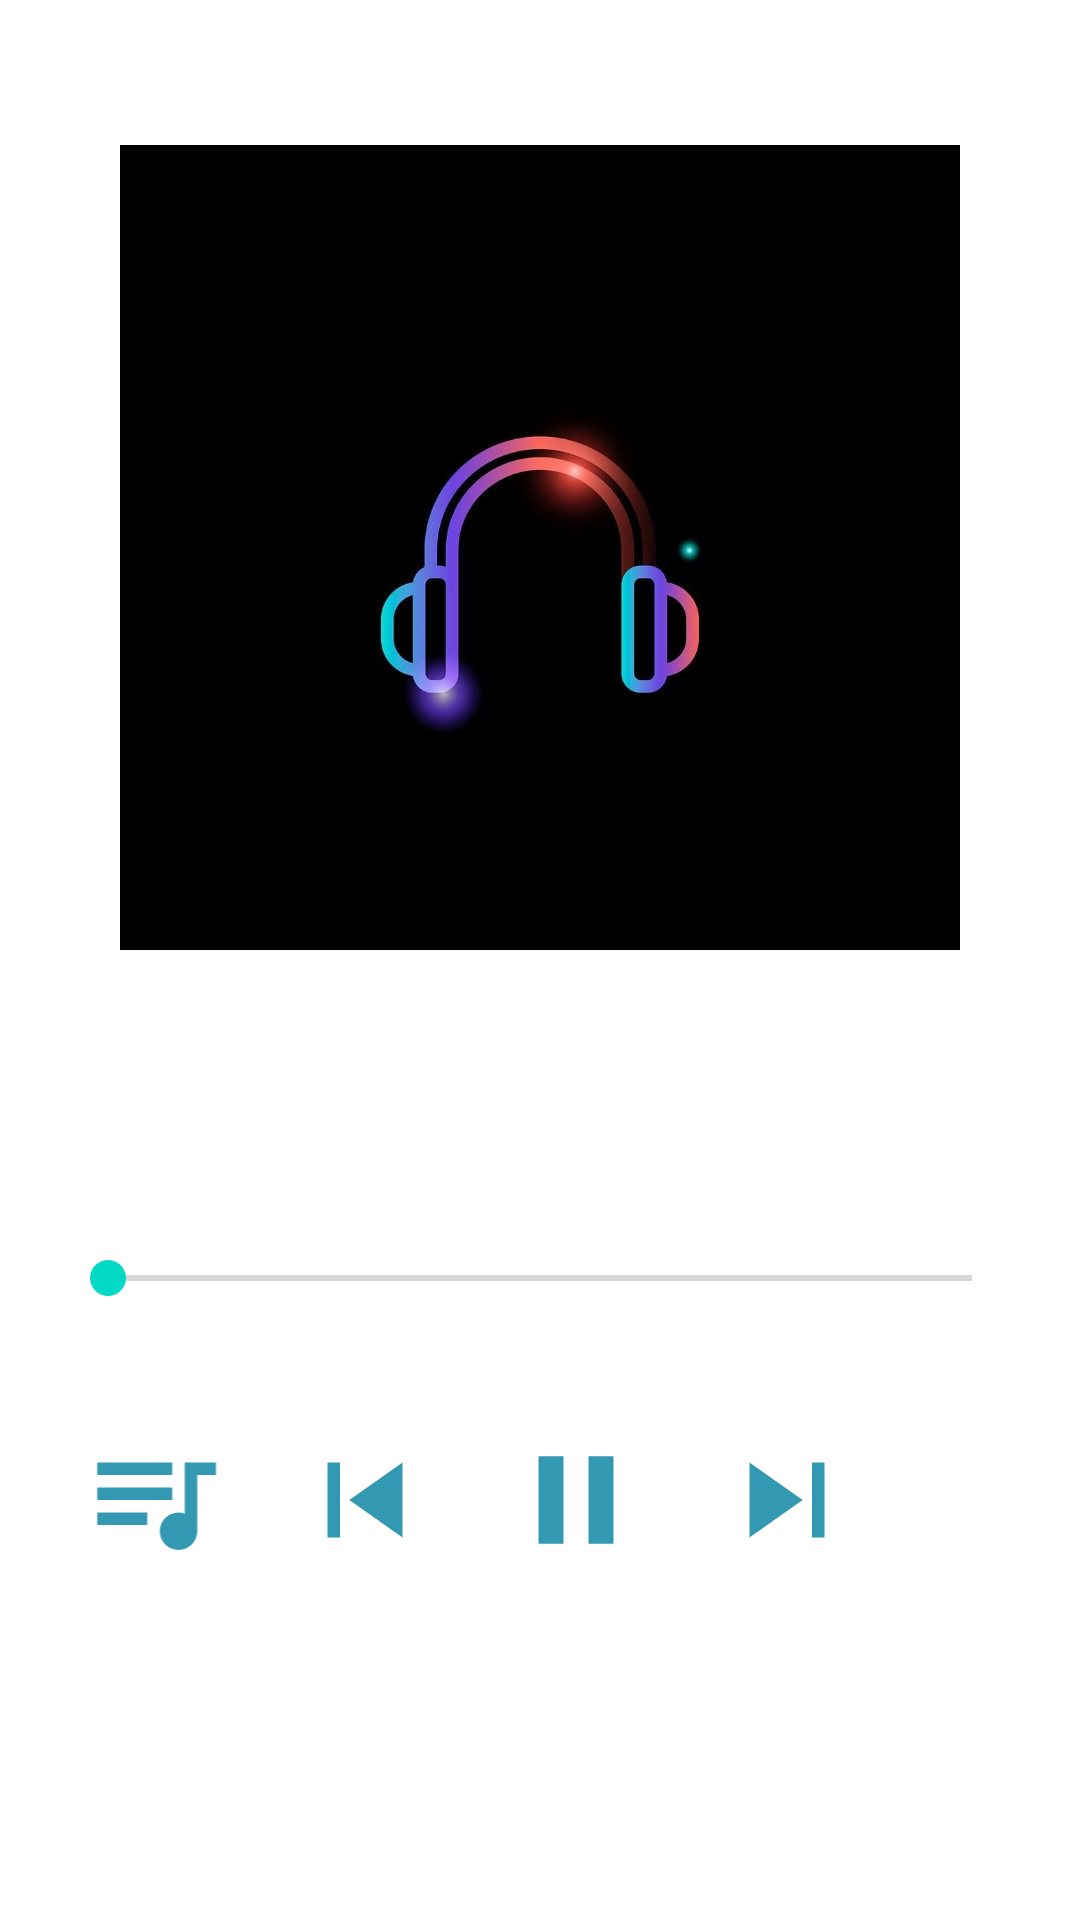

Icon click points for this 1080px×1920px phone screenshot, format [x,y]:
next: [787,1500]
pause: [576,1500]
previous: [365,1500]
queue: [156,1506]
